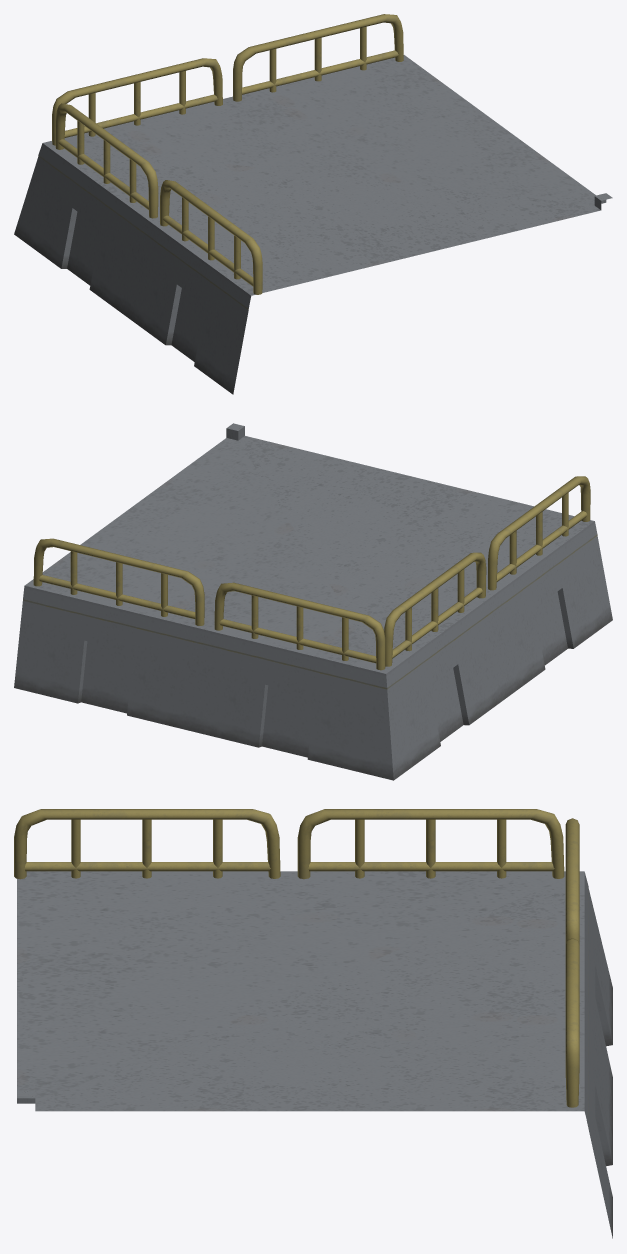
Rendered from spaceStation_sidewalk_c.fbx.
The picture shows the model from 3 angles, top to bottom: view 1: azimuth 30°, elevation 25°; view 2: azimuth 150°, elevation 25°; view 3: azimuth 270°, elevation 25°; orthographic projection. The views are drawn at different scales.
Parts seen in each view (by area): view 1: station_Sidewalk_Floor, station_Sidewalk_Wall, station_Sidewalk_Floor.003; view 2: station_Sidewalk_Wall, station_Sidewalk_Floor, station_Sidewalk_Floor.003; view 3: station_Sidewalk_Floor, station_Sidewalk_Floor.003, station_Sidewalk_Wall.
Boxes of the visible parts, bbox=[...] form: station_Sidewalk_Floor: bbox=[43, 55, 612, 295]; station_Sidewalk_Wall: bbox=[14, 143, 251, 394]; station_Sidewalk_Floor.003: bbox=[52, 14, 403, 294]; station_Sidewalk_Wall: bbox=[14, 521, 612, 780]; station_Sidewalk_Floor: bbox=[24, 423, 594, 673]; station_Sidewalk_Floor.003: bbox=[33, 476, 590, 670]; station_Sidewalk_Floor: bbox=[17, 871, 584, 1111]; station_Sidewalk_Floor.003: bbox=[14, 809, 579, 1107]; station_Sidewalk_Wall: bbox=[584, 872, 612, 1238].
Bounding box in the file's own units: 8.4 × 3.06 × 8.44.
3 materials, 3 textured.
